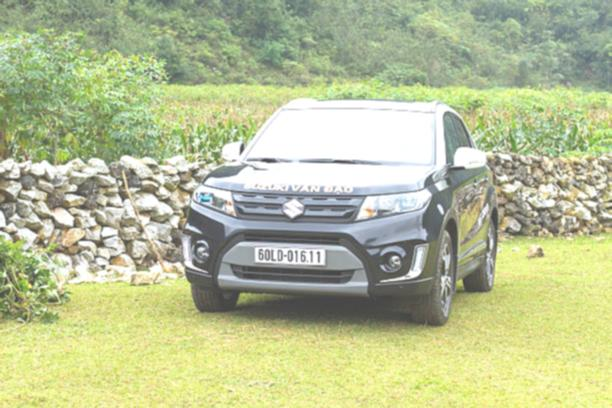suzuki: (280, 197, 312, 222)
